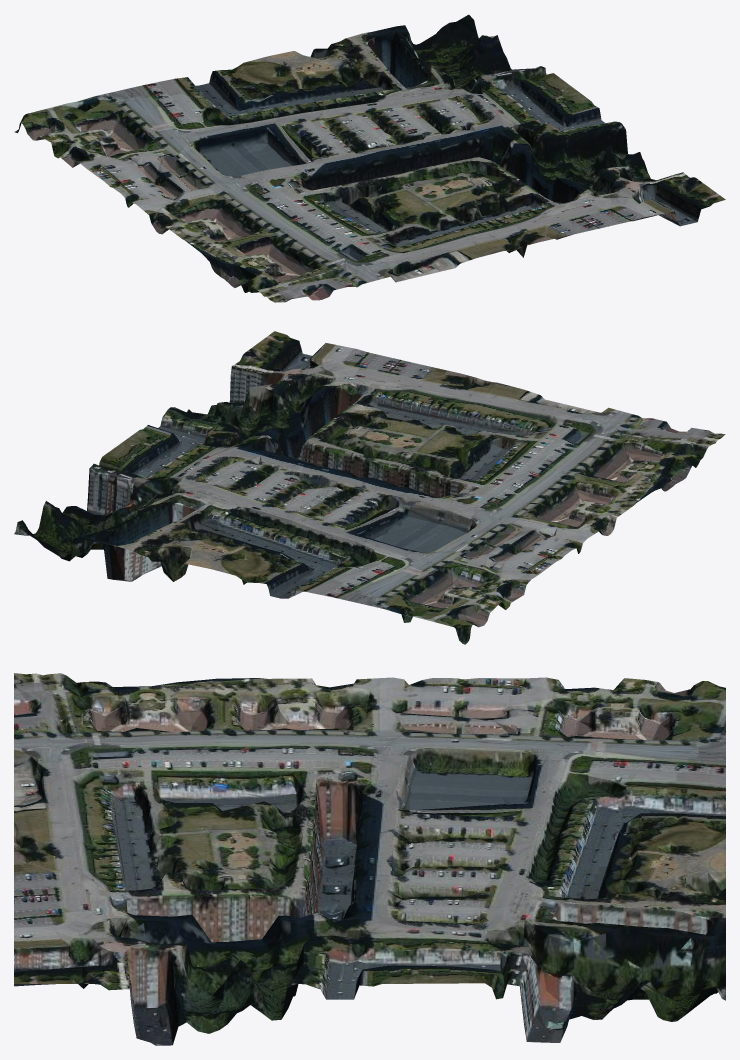
Rendered from map_13_2043_3448.dae.
The picture shows the model from 3 angles, top to bottom: view 1: azimuth 30°, elevation 25°; view 2: azimuth 150°, elevation 25°; view 3: azimuth 270°, elevation 25°; orthographic projection. The views are drawn at different scales.
Visible parts, largest first — view 1: Ter0; view 2: Ter0; view 3: Ter0.
Boxes of the visible parts, x1=… form: Ter0: x1=14, y1=14, x2=725, y2=302; Ter0: x1=14, y1=331, x2=725, y2=644; Ter0: x1=14, y1=673, x2=725, y2=1045.
Size of the model in its own units: 256 by 256 by 28.85.
Materials: 3 (3 with a texture image).
